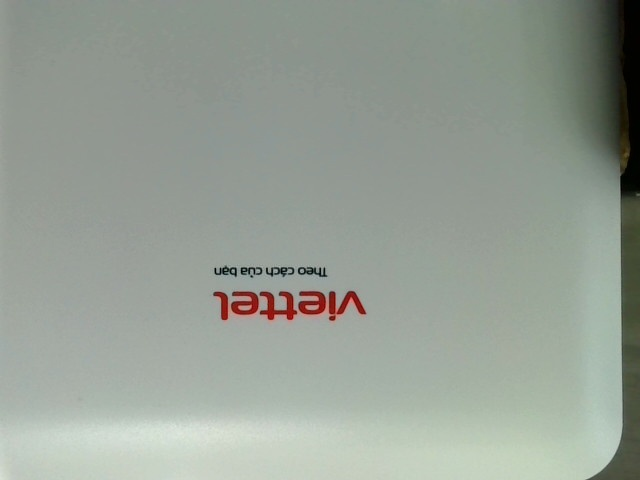AY_Viettel: (206, 264, 366, 320)
